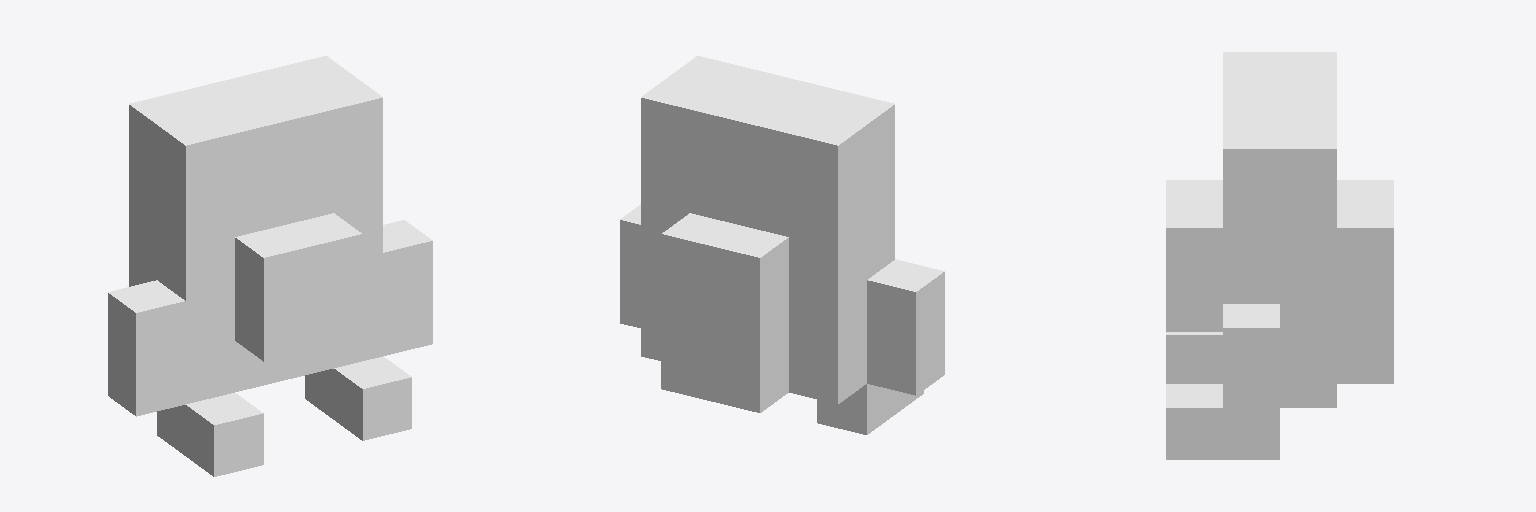
The model's file is dwarf-helmet-2.obj.
3 views of the same model, side by side, from view 1: azimuth 30°, elevation 25°; view 2: azimuth 150°, elevation 25°; view 3: azimuth 270°, elevation 25° (orthographic).
Visible parts, largest first — view 1: object 1; view 2: object 1; view 3: object 1.
Part boxes in pixels (left/top/right/bottom): object 1: left=108, top=56, right=432, bottom=476; object 1: left=620, top=56, right=944, bottom=434; object 1: left=1166, top=52, right=1393, bottom=459.
Bounding box in the file's own units: 0.6 × 0.6 × 0.4.